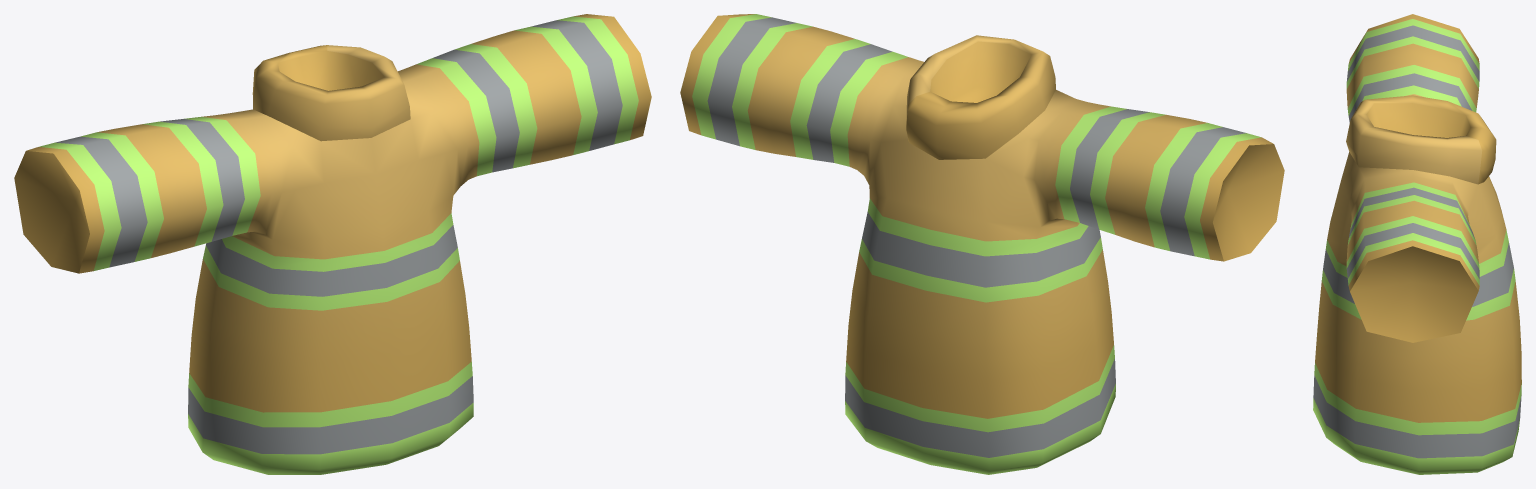
Rendered from Top_37.fbx.
3 views of the same model, side by side, from view 1: azimuth 30°, elevation 25°; view 2: azimuth 150°, elevation 25°; view 3: azimuth 270°, elevation 25° (orthographic). The views are drawn at different scales.
Parts seen in each view (by area): view 1: Top_37; view 2: Top_37; view 3: Top_37.
Boxes of the visible parts, bbox=[...] form: Top_37: bbox=[14, 14, 651, 474]; Top_37: bbox=[680, 14, 1284, 474]; Top_37: bbox=[1313, 14, 1521, 474].
Size of the model in its own units: 101 by 65.28 by 37.92.
